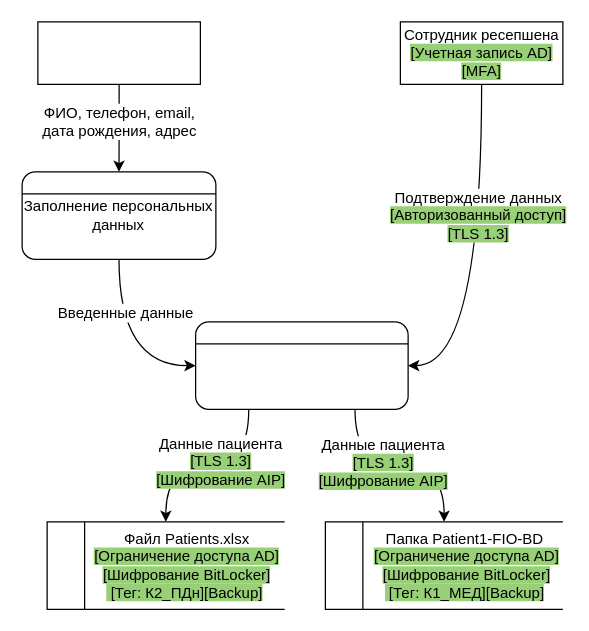
This 589x631 diagram has some shape labels left out. Here are the shapes that lost their labels. From the top down, the centre of each, then its label:
At pixel 118 52: "Пациент".
At pixel 301 365: "Регистрация в системе [Аудит доступа] [Тегирование AIP]".
